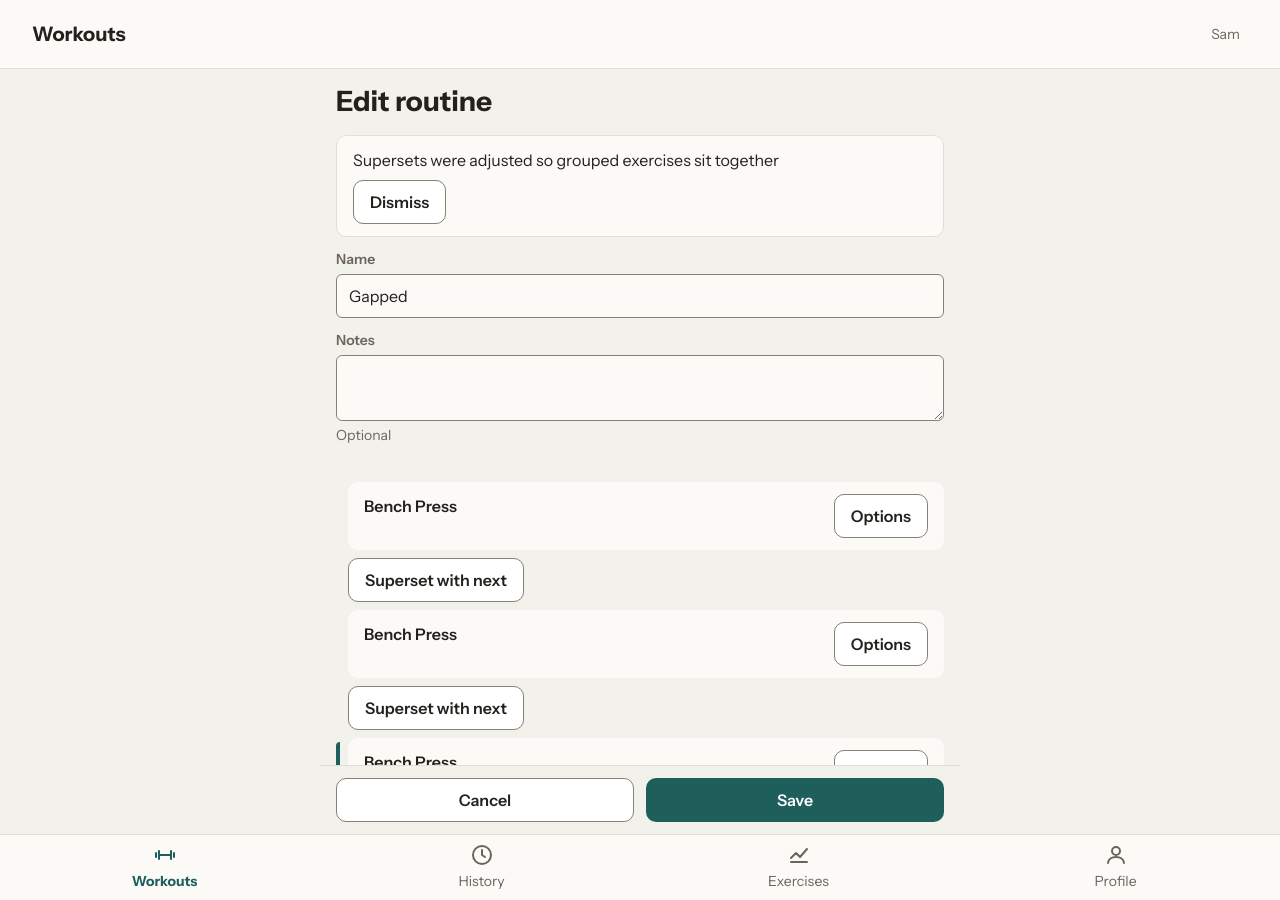
Test: 10.0 AC34 — the leave guard › an adjusted load is dirty and guarded
Click the button "Cancel".
click(485, 800)  # box [336,778,634,822]
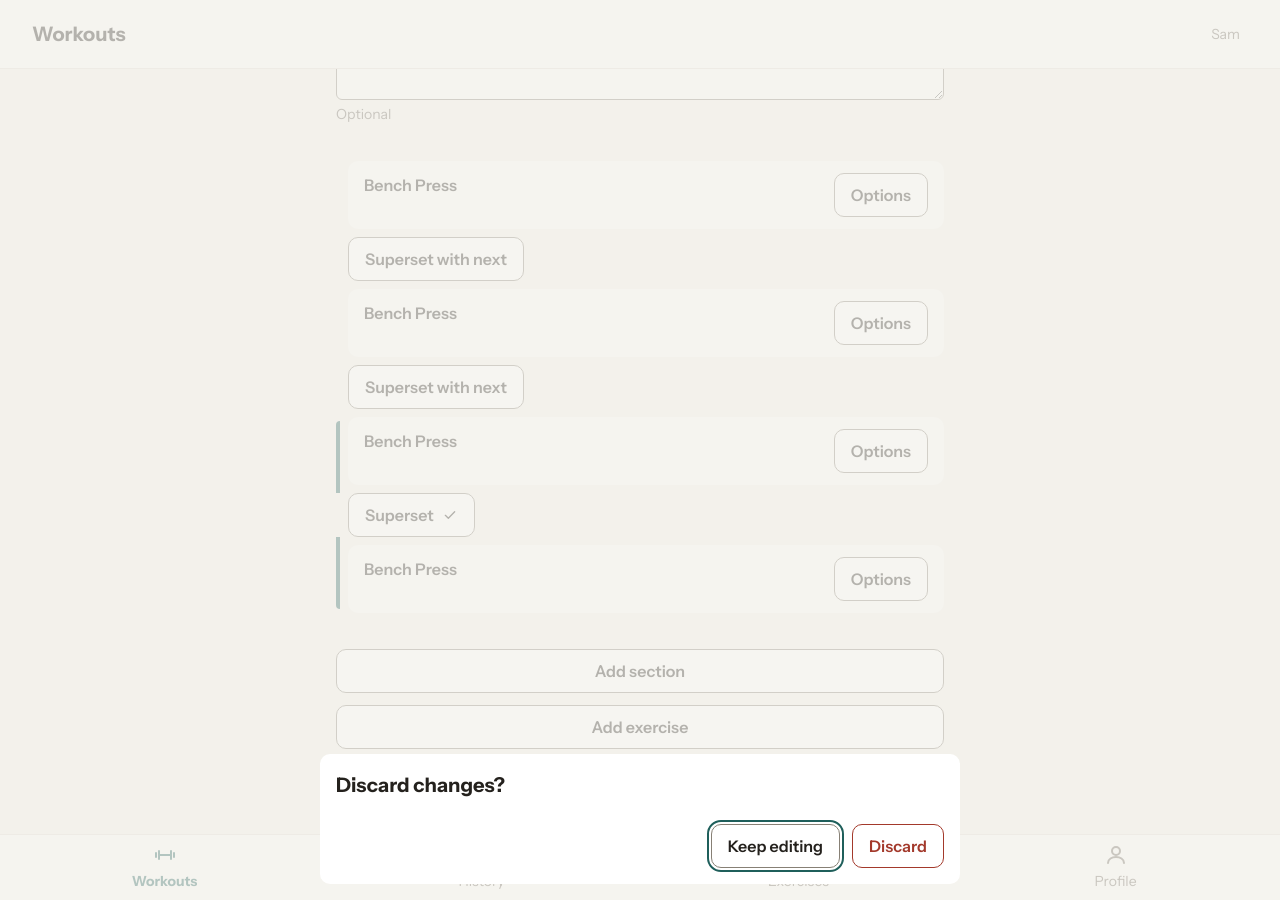
Check: the dialog "Discard changes?" is shown, box [320,754,960,884]
